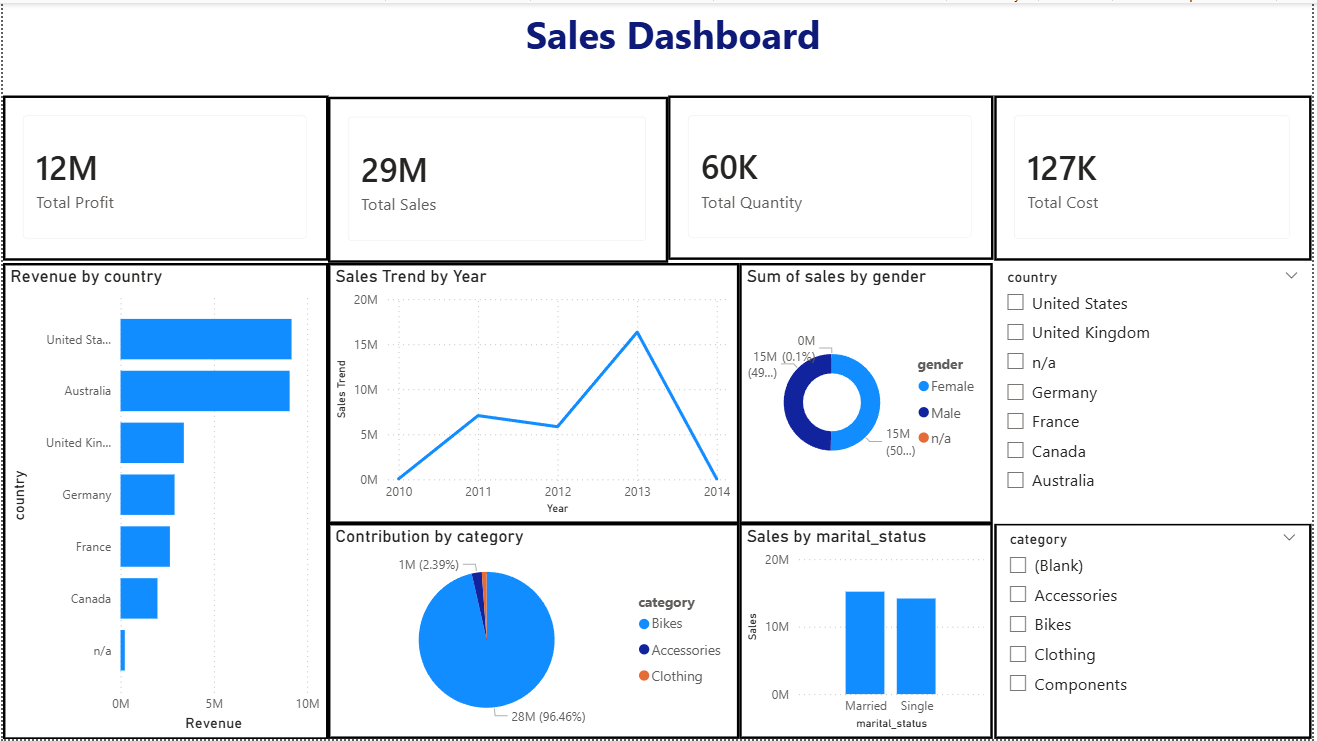

The dashboard page shown, as its layout file describes it:
{"tool":"powerbi","page":{"name":"Page 1","canvas":[1280,720],"ordinal":0},"visuals":[{"type":"textbox","box":[9.6,0,1270.7,71.4],"z":0},{"type":"cardVisual","fields":{"Data":["gold dim_customers.Profit"]},"box":[0,90.6,318.4,161.9],"z":1000},{"type":"cardVisual","fields":{"Data":["Sum(gold dim_products.cost)"]},"box":[970.2,90.6,310.1,161.9],"z":2000},{"type":"cardVisual","fields":{"Data":["Sum(gold fact_sales.quantity)"]},"box":[650.4,90.6,318.4,160.5],"z":3000},{"type":"barChart","fields":{"Y":["Sum(gold fact_sales.sales_amount)"],"Category":["gold dim_customers.country"]},"box":[0,253.9,318.4,466.6],"z":4000},{"type":"lineChart","fields":{"Category":["gold fact_sales.order_date.Variation.Date Hierarchy.Year","gold fact_sales.order_date.Variation.Date Hierarchy.Quarter","gold fact_sales.order_date.Variation.Date Hierarchy.Month","gold fact_sales.order_date.Variation.Date Hierarchy.Day"],"Y":["Sum(gold fact_sales.sales_amount)"]},"box":[318.4,253.9,402.1,255.2],"z":5000},{"type":"pieChart","fields":{"Y":["Sum(gold fact_sales.sales_amount)"],"Category":["gold dim_products.category"]},"box":[318,509,402,211],"z":6000},{"type":"donutChart","fields":{"Category":["gold dim_customers.gender"],"Y":["Sum(gold fact_sales.sales_amount)"]},"box":[720,254,248,255],"z":7000},{"type":"columnChart","fields":{"Category":["gold dim_customers.marital_status"],"Y":["Sum(gold fact_sales.sales_amount)"]},"box":[720,509,248,211],"z":8000},{"type":"slicer","fields":{"Values":["gold dim_products.category"]},"box":[970,509,310,211],"z":9000},{"type":"cardVisual","fields":{"Data":["Sum(gold fact_sales.sales_amount)"]},"box":[317.9,91.7,332.6,162.6],"z":10000},{"type":"slicer","fields":{"Values":["gold dim_customers.country"]},"box":[970,254,310,255],"z":11000}]}

Visuals, with their boxes in screenshot pixels (x1, y1, x2, y2), scaled from the page's 1280x720 canvas onto the 1317x741 screenshot:
textbox: x1=10 y1=0 x2=1316 y2=73
cardVisual - gold dim_customers.Profit: x1=0 y1=93 x2=328 y2=260
cardVisual - Sum(gold dim_products.cost): x1=998 y1=93 x2=1316 y2=260
cardVisual - Sum(gold fact_sales.quantity): x1=669 y1=93 x2=997 y2=258
barChart - Sum(gold fact_sales.sales_amount) x gold dim_customers.country: x1=0 y1=261 x2=328 y2=740
lineChart - gold fact_sales.order_date.Variation.Date Hierarchy.Year x gold fact_sales.order_date.Variation.Date Hierarchy.Quarter: x1=328 y1=261 x2=741 y2=524
pieChart - Sum(gold fact_sales.sales_amount) x gold dim_products.category: x1=327 y1=524 x2=741 y2=740
donutChart - gold dim_customers.gender x Sum(gold fact_sales.sales_amount): x1=741 y1=261 x2=996 y2=524
columnChart - gold dim_customers.marital_status x Sum(gold fact_sales.sales_amount): x1=741 y1=524 x2=996 y2=740
slicer - gold dim_products.category: x1=998 y1=524 x2=1316 y2=740
cardVisual - Sum(gold fact_sales.sales_amount): x1=327 y1=94 x2=669 y2=262
slicer - gold dim_customers.country: x1=998 y1=261 x2=1316 y2=524
